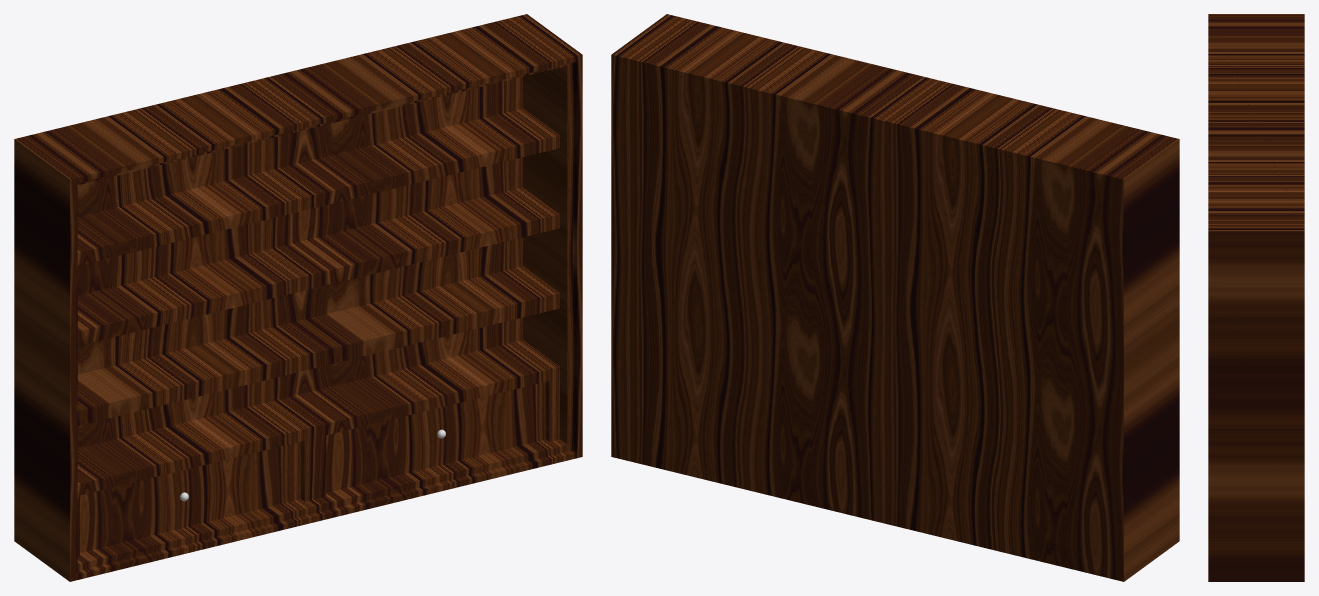
The model's file is darkwood_big_bookshelf.fbx.
3 renders of one model, left to right at view 1: azimuth 30°, elevation 25°; view 2: azimuth 150°, elevation 25°; view 3: azimuth 270°, elevation 25°, orthographic. The views are drawn at different scales.
Visible parts, largest first — view 1: pSphere3; view 2: pSphere3; view 3: pSphere3.
Boxes of the visible parts, x1,y1,x2,y2 form: pSphere3: [14, 14, 582, 581]; pSphere3: [611, 14, 1179, 581]; pSphere3: [1208, 14, 1304, 581].
Size of the model in its own units: 4 by 3 by 0.75.
Materials: 3 (2 with a texture image).
